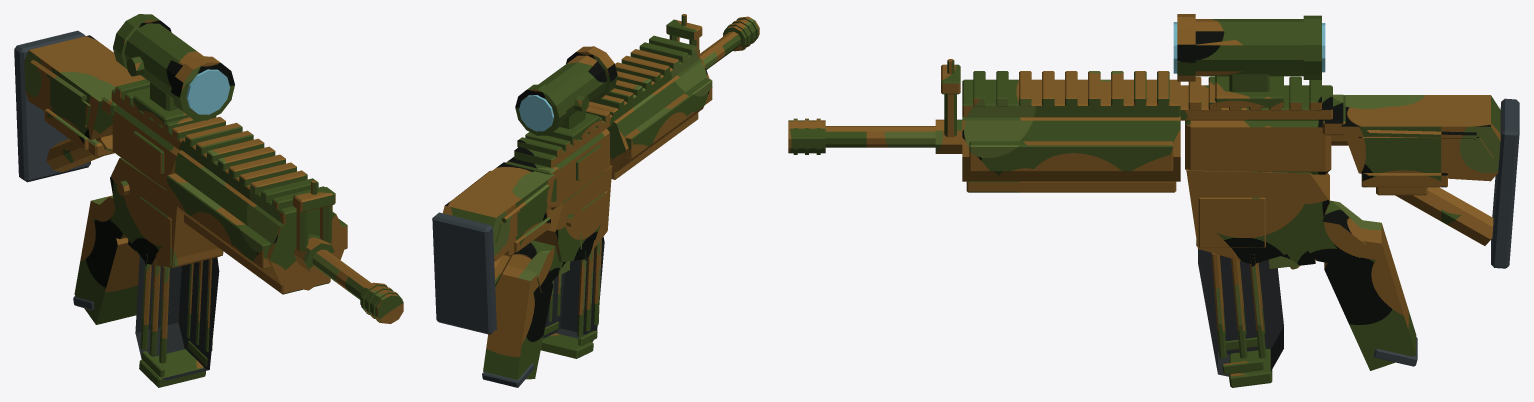
File: M4_RuralCamo.glb
The picture shows the model from 3 angles, left to right: view 1: azimuth 30°, elevation 25°; view 2: azimuth 150°, elevation 25°; view 3: azimuth 270°, elevation 25°; orthographic projection. The views are drawn at different scales.
Visible parts, largest first — view 1: FTF_Weapon_M4A1_RuralCamo_Mesh; view 2: FTF_Weapon_M4A1_RuralCamo_Mesh; view 3: FTF_Weapon_M4A1_RuralCamo_Mesh.
Part boxes in pixels (x1,y1,x2,y2): FTF_Weapon_M4A1_RuralCamo_Mesh: [14, 14, 403, 387]; FTF_Weapon_M4A1_RuralCamo_Mesh: [432, 14, 759, 387]; FTF_Weapon_M4A1_RuralCamo_Mesh: [788, 14, 1519, 387].
Size of the model in its own units: 0.182 by 0.6896 by 1.27.
4 materials, 1 textured.
